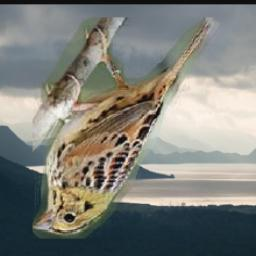Sparrow: (31, 17, 221, 239)
